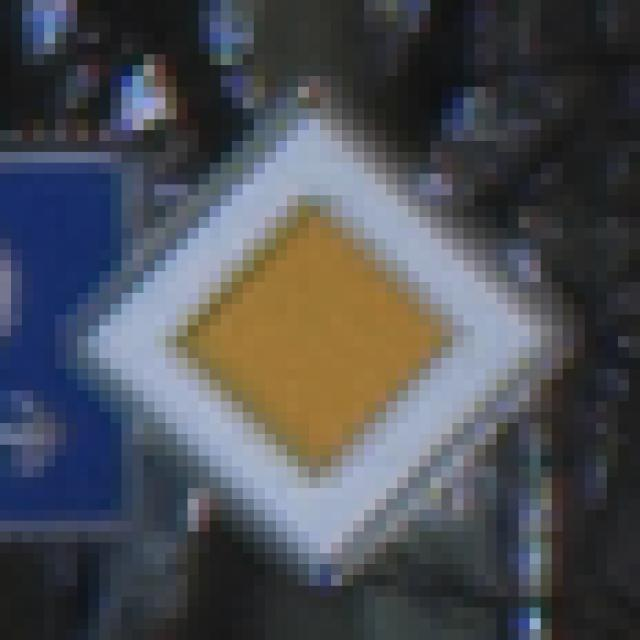Main Road: (56, 66, 586, 587)
